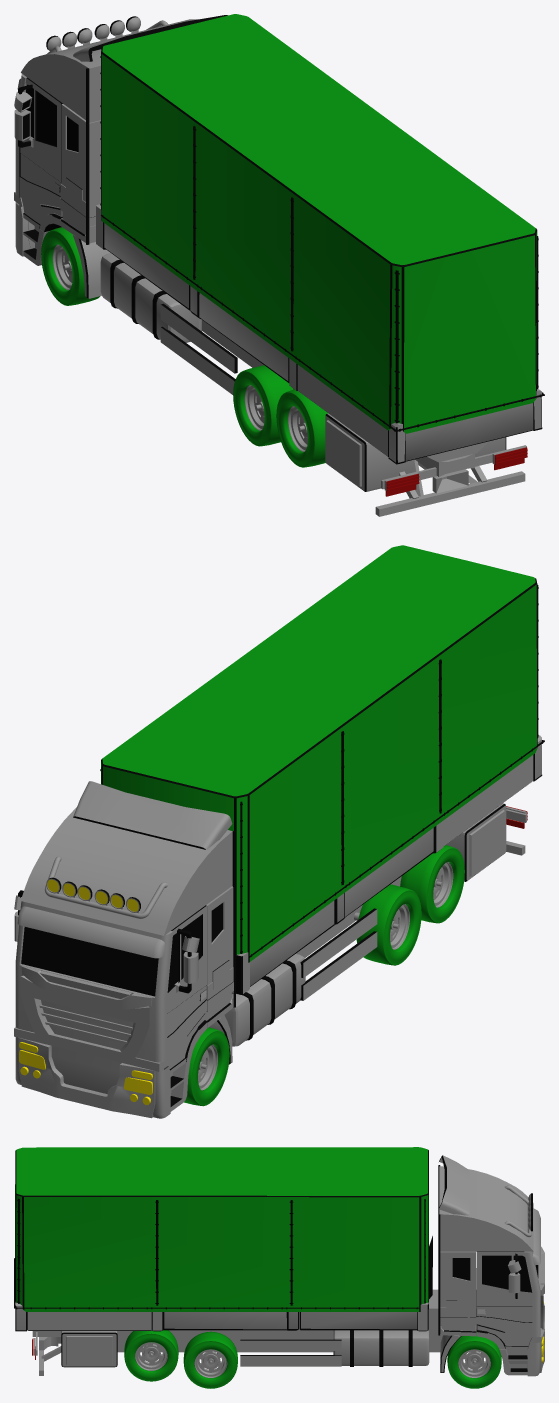
File: Kamionche_Final_za_sega.FBX
The picture shows the model from 3 angles, top to bottom: view 1: azimuth 30°, elevation 25°; view 2: azimuth 150°, elevation 25°; view 3: azimuth 270°, elevation 25°; orthographic projection. The views are drawn at different scales.
Parts seen in each view (by area): view 1: Box013; view 2: Box013; view 3: Box013.
Part boxes in pixels (x1,y1,x2,y2): Box013: (14, 14, 544, 516); Box013: (14, 545, 544, 1118); Box013: (14, 1147, 544, 1388).
Bounding box in the file's own units: 2912 × 4307 × 10758.
